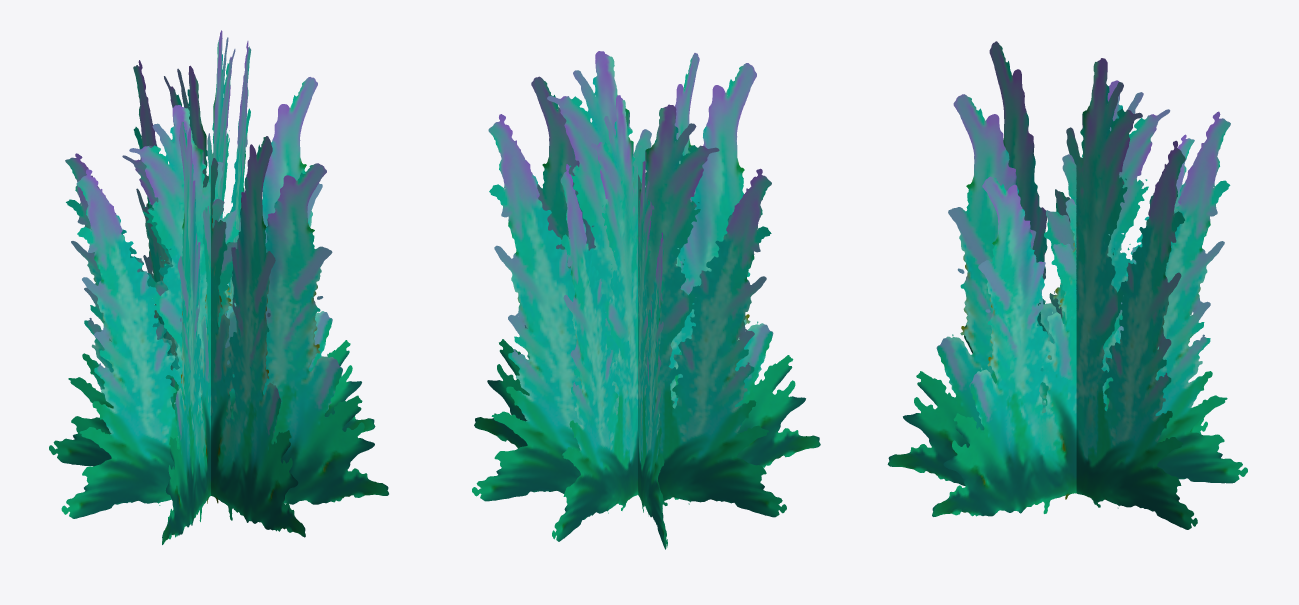
The model's file is bush3.fbx.
3 renders of one model, left to right at view 1: azimuth 30°, elevation 25°; view 2: azimuth 150°, elevation 25°; view 3: azimuth 270°, elevation 25°, orthographic.
Visible parts, largest first — view 1: Plane.005; view 2: Plane.005; view 3: Plane.005.
Boxes of the visible parts, bbox=[...] form: Plane.005: bbox=[49, 30, 388, 544]; Plane.005: bbox=[472, 51, 820, 549]; Plane.005: bbox=[887, 41, 1247, 529].
Bounding box in the file's own units: 704 × 912 × 704.
